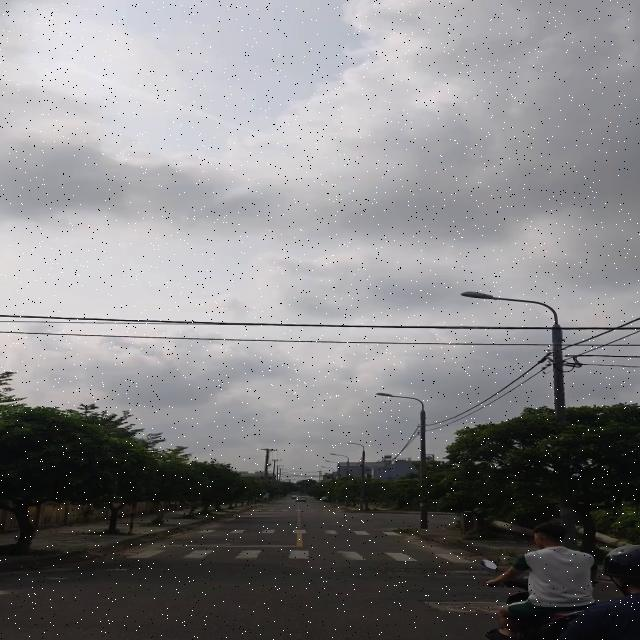helmet: (594, 545, 640, 602)
no_helmet: (529, 519, 578, 546)
